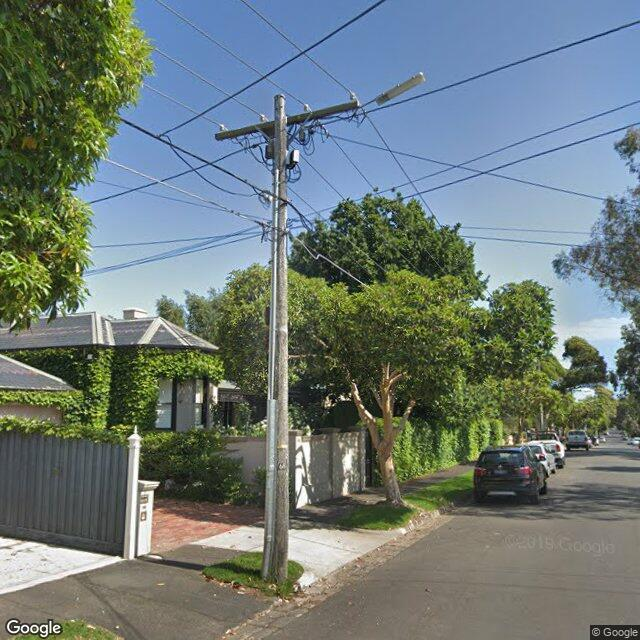crossarm: (216, 92, 362, 154)
streetlight: (360, 72, 426, 109)
timber-pole: (261, 93, 289, 582)
